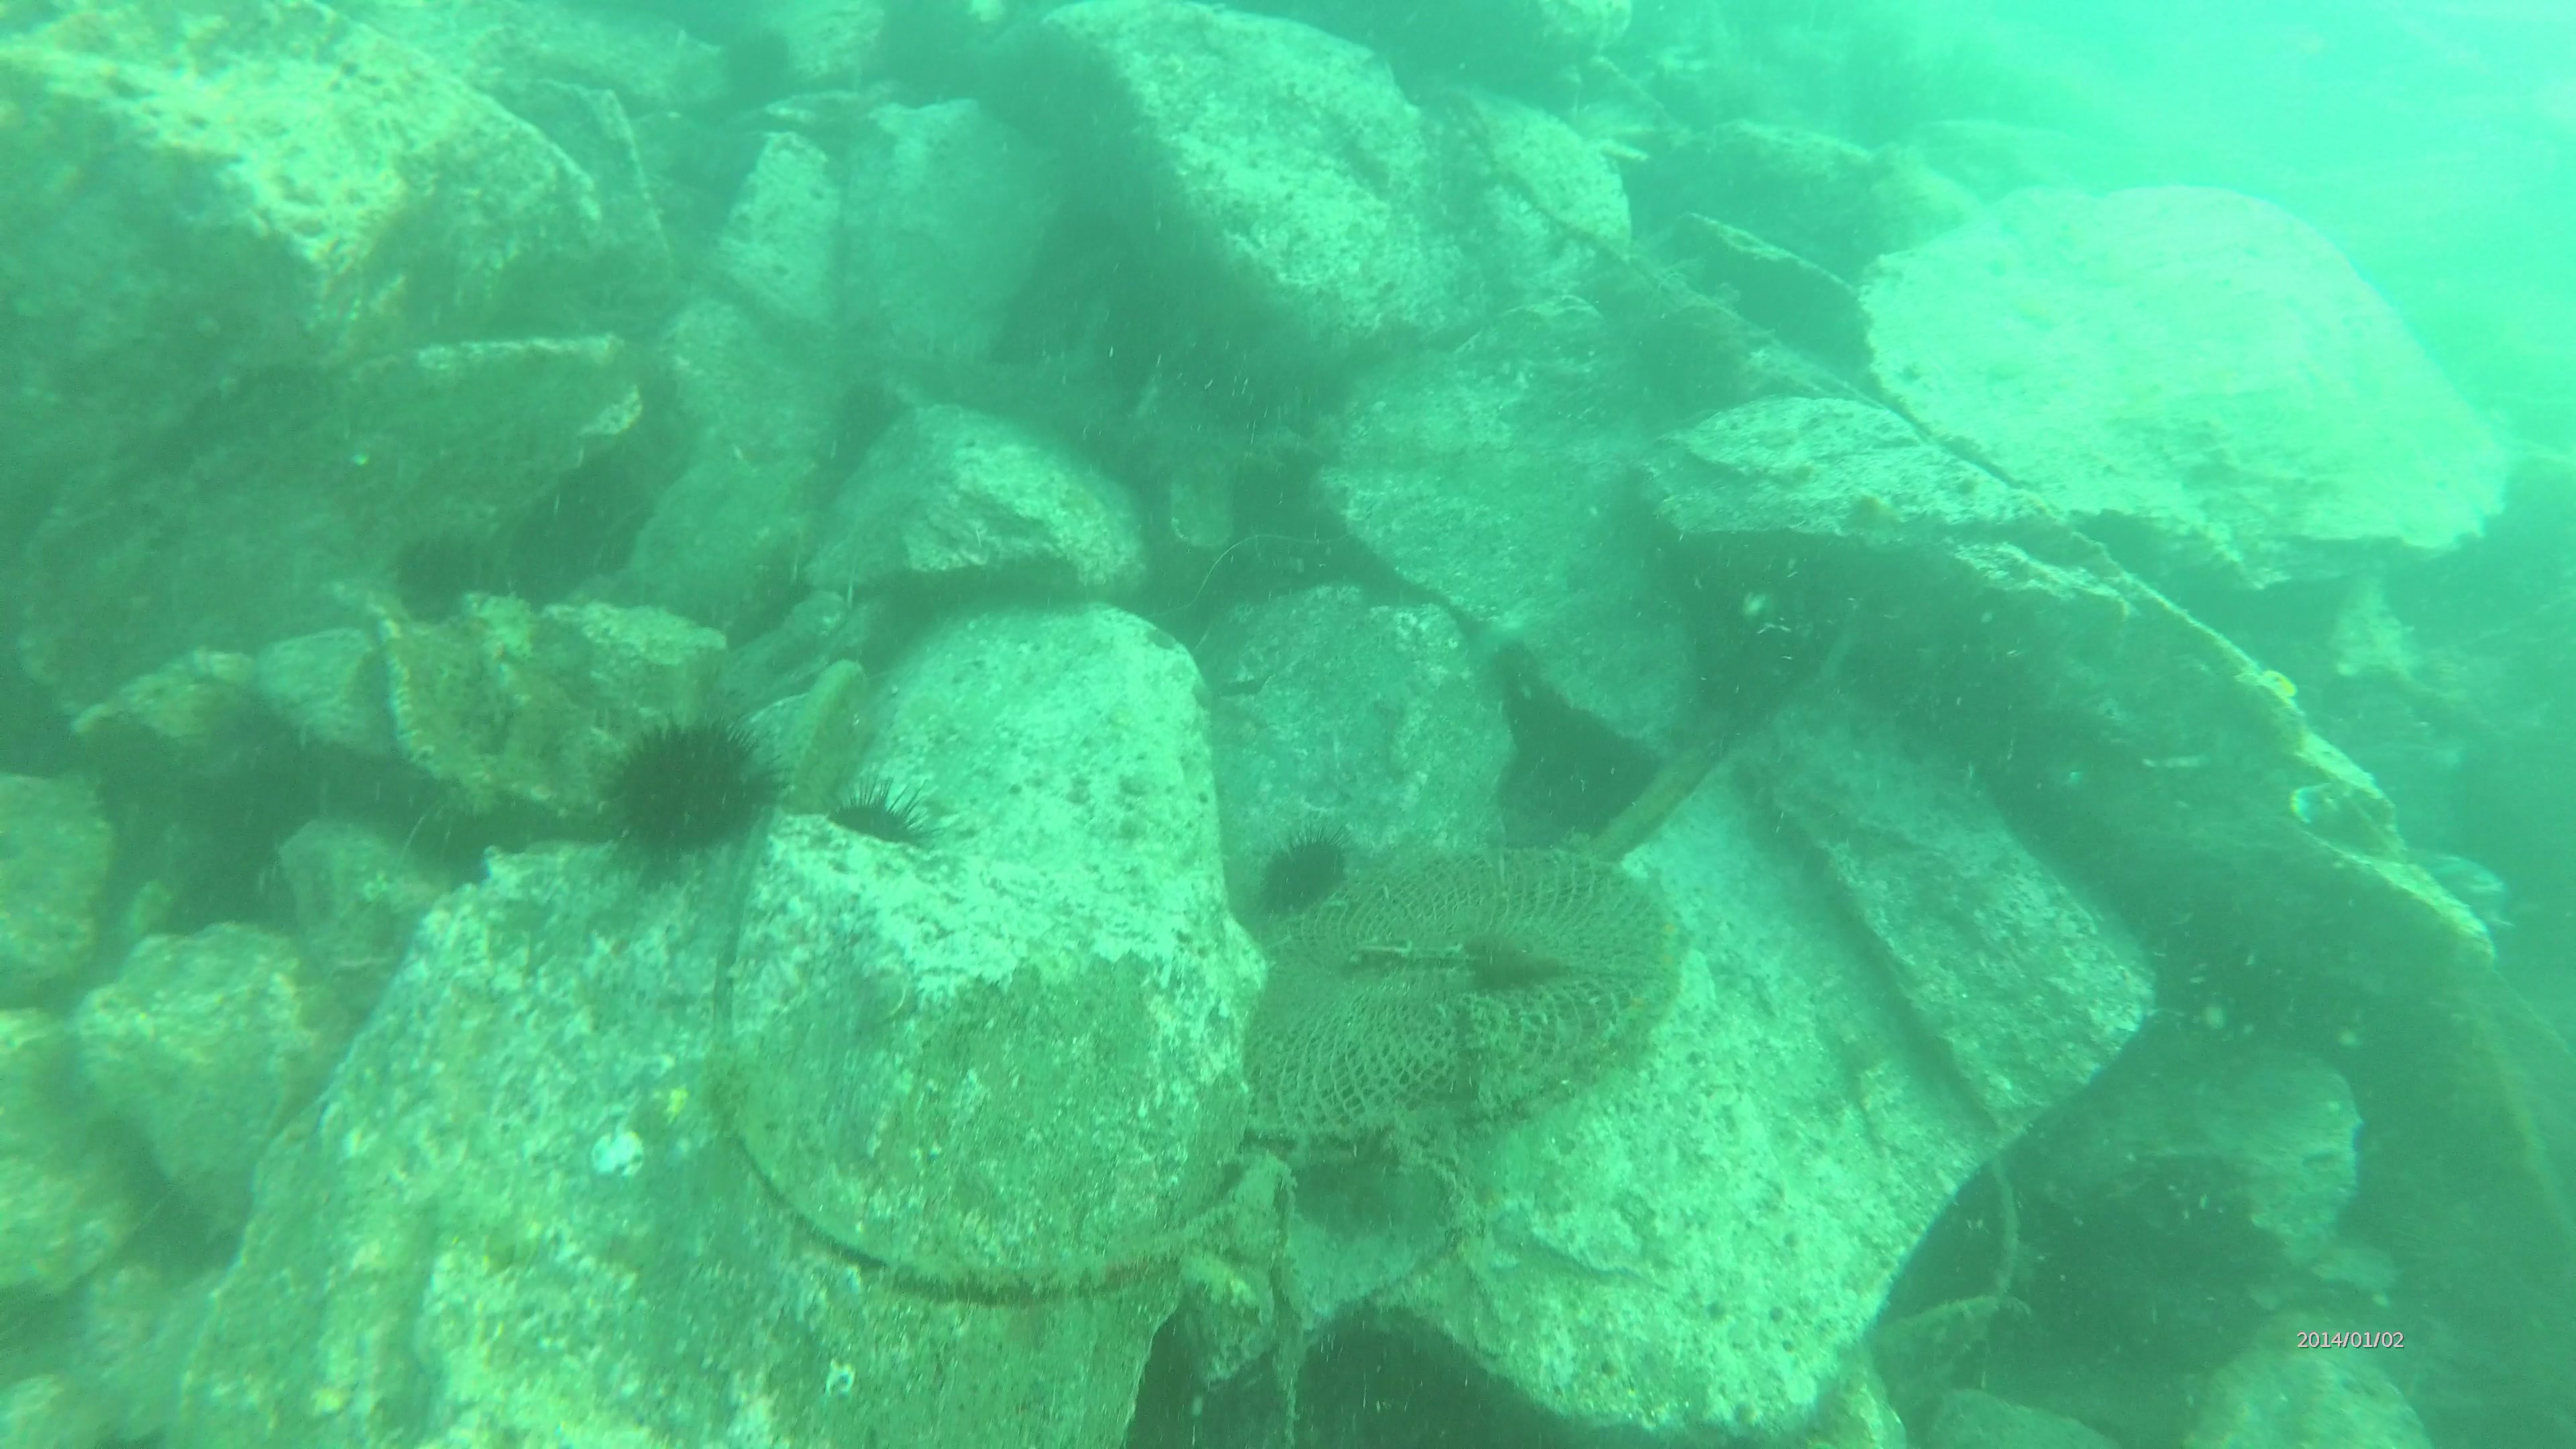echinus: (596, 708, 786, 853), (817, 768, 936, 862), (389, 536, 504, 632), (1249, 824, 1353, 927)
